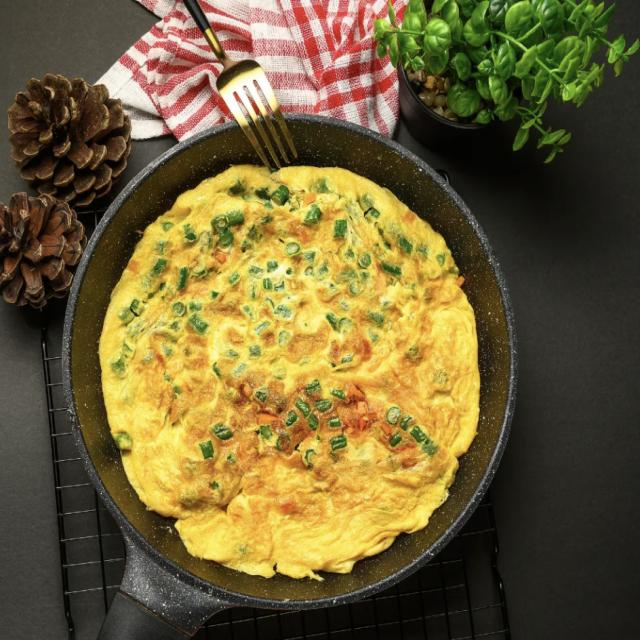trung chien: (100, 166, 479, 579)
